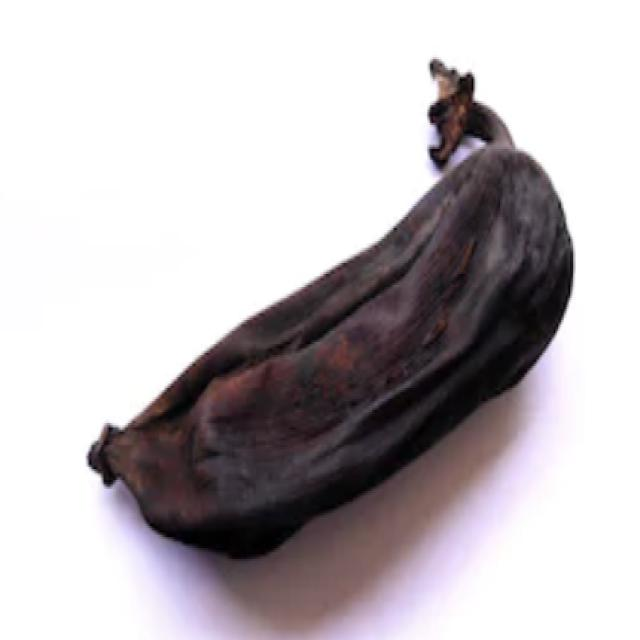rotten-banana: (86, 50, 576, 555)
